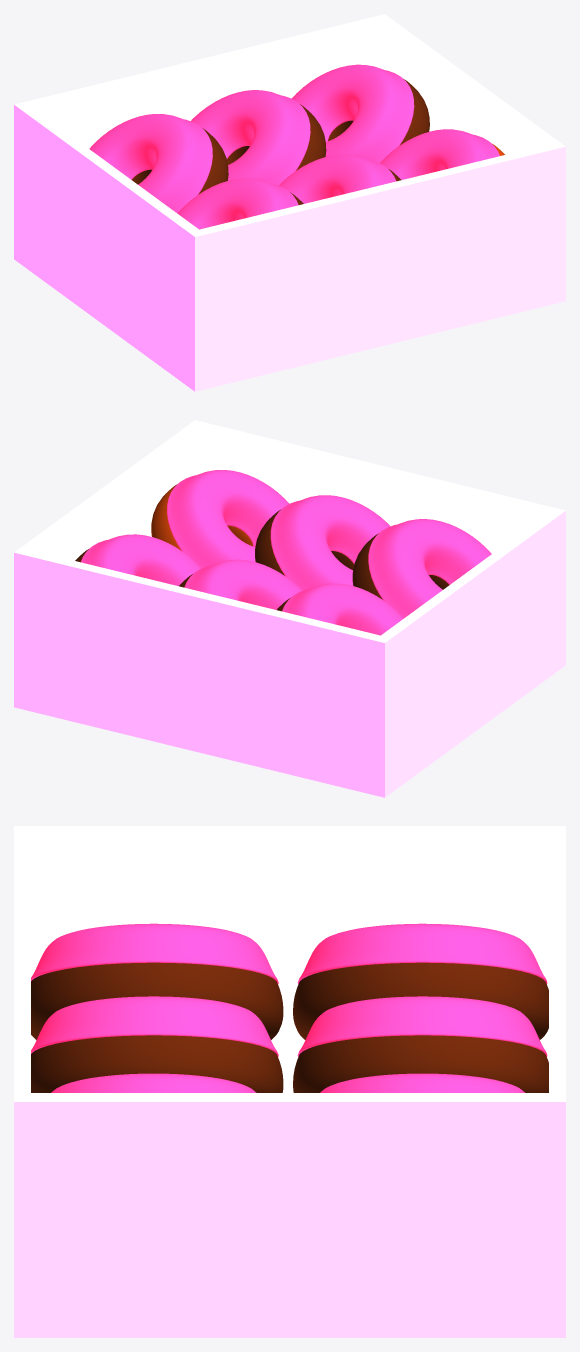
File: donut_box.glb
The picture shows the model from 3 angles, top to bottom: view 1: azimuth 30°, elevation 25°; view 2: azimuth 150°, elevation 25°; view 3: azimuth 270°, elevation 25°; orthographic projection. The views are drawn at different scales.
Visible parts, largest first — view 1: Cube; view 2: Cube; view 3: Cube.
Part boxes in pixels (bbox=[...]): Cube: bbox=[14, 14, 565, 391]; Cube: bbox=[14, 420, 565, 797]; Cube: bbox=[14, 826, 565, 1337].
Bounding box in the file's own units: 4.92 × 1.98 × 4.16.
